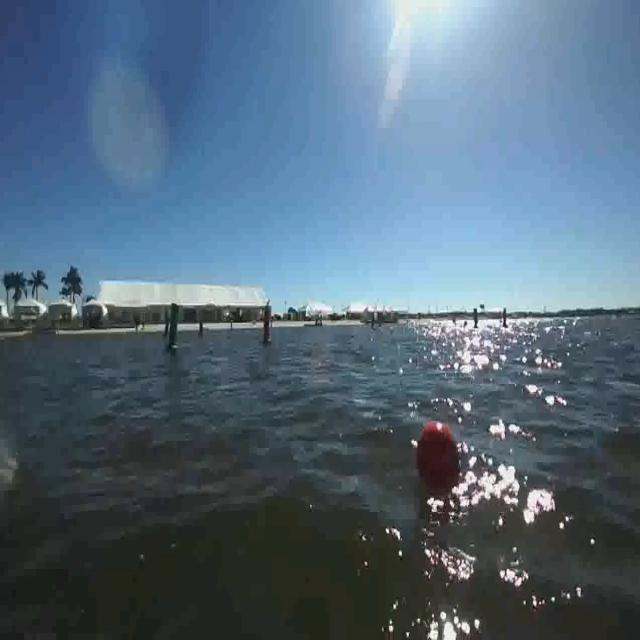green-column-buoy: (166, 305, 182, 354)
red-buoy: (417, 420, 464, 492)
red-column-buoy: (262, 311, 276, 347)
